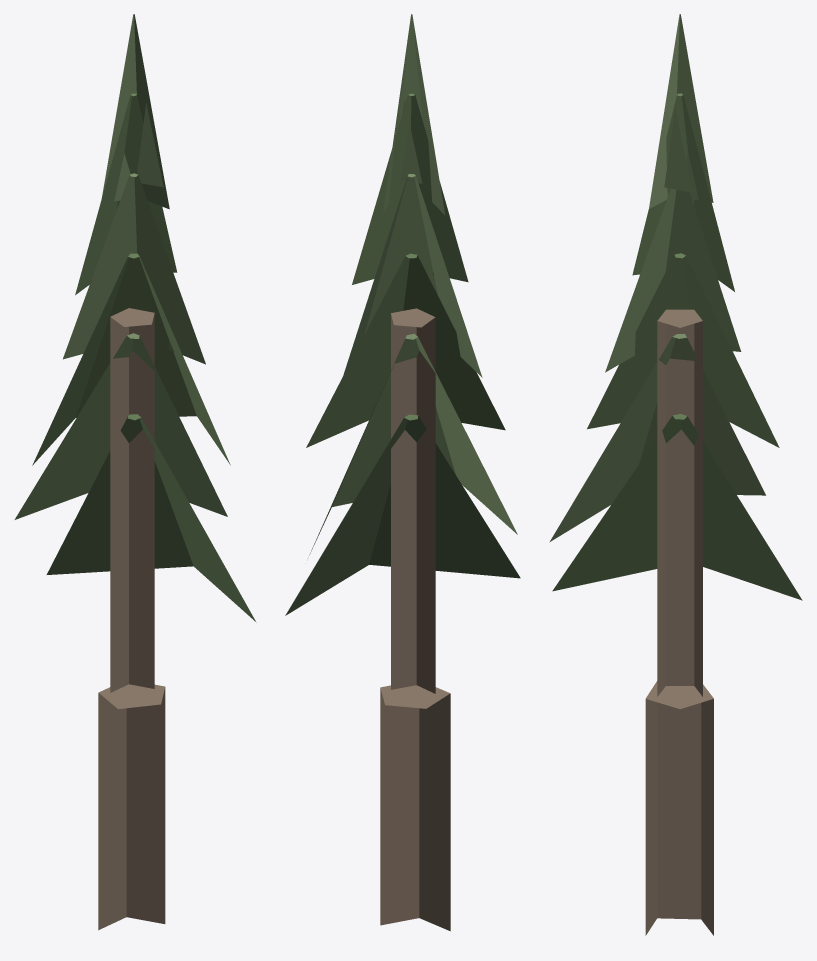
File: tree.cold.larch__summer.glb
3 renders of one model, left to right at view 1: azimuth 30°, elevation 25°; view 2: azimuth 150°, elevation 25°; view 3: azimuth 270°, elevation 25°, orthographic.
Parts seen in each view (by area): view 1: tree.cold.larch__summer; view 2: tree.cold.larch__summer; view 3: tree.cold.larch__summer.
Part boxes in pixels (<box>): tree.cold.larch__summer: <box>14,14,256,930</box>; tree.cold.larch__summer: <box>285,14,520,931</box>; tree.cold.larch__summer: <box>549,14,802,935</box>.
Size of the model in its own units: 4.02 by 17.75 by 4.44.
